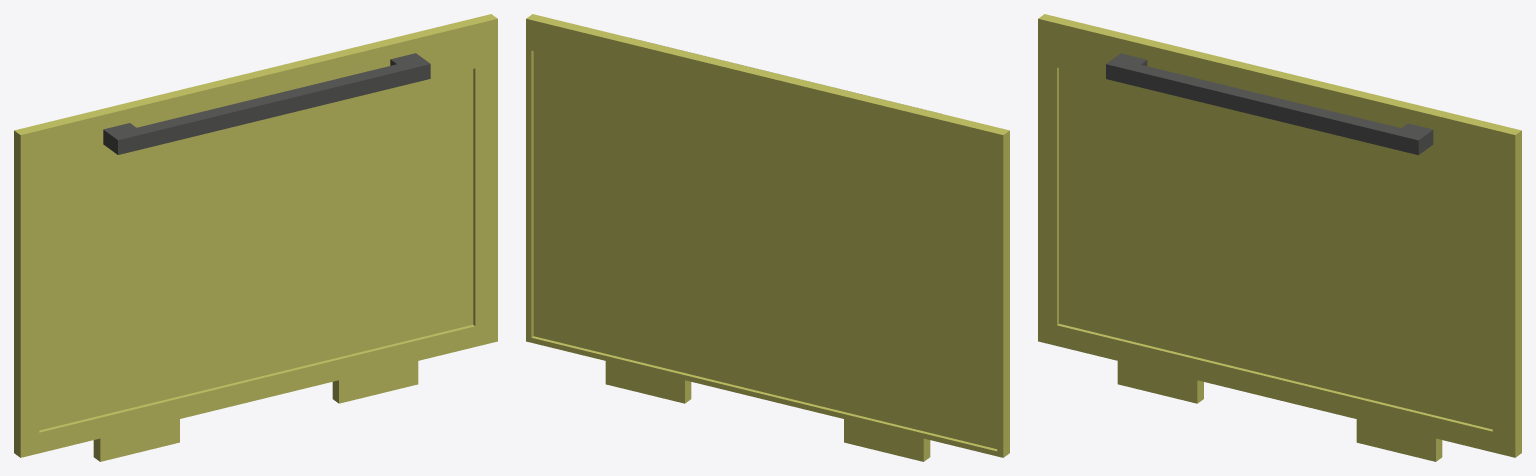
The model's file is Oven_Door.fbx.
The picture shows the model from 3 angles, left to right: view 1: azimuth 30°, elevation 25°; view 2: azimuth 150°, elevation 25°; view 3: azimuth 330°, elevation 25°; orthographic projection.
Parts seen in each view (by area): view 1: Cube.172; view 2: Cube.172; view 3: Cube.172.
Boxes of the visible parts, <box> form: Cube.172: <box>14,14,497,461</box>; Cube.172: <box>526,14,1009,461</box>; Cube.172: <box>1038,14,1521,461</box>.
Size of the model in its own units: 86.75 by 60.13 by 6.71.
